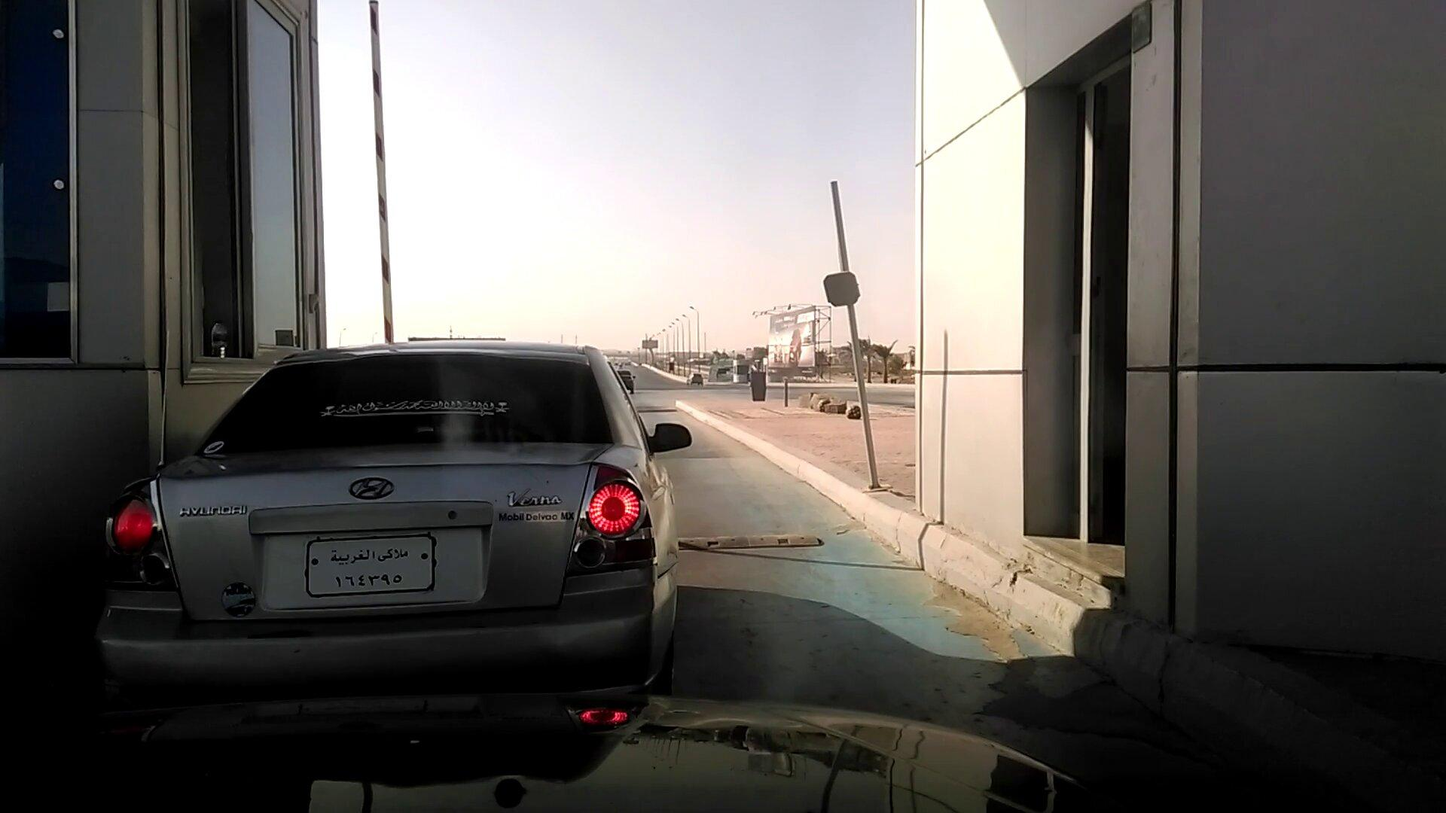Bump: (682, 527, 813, 553)
